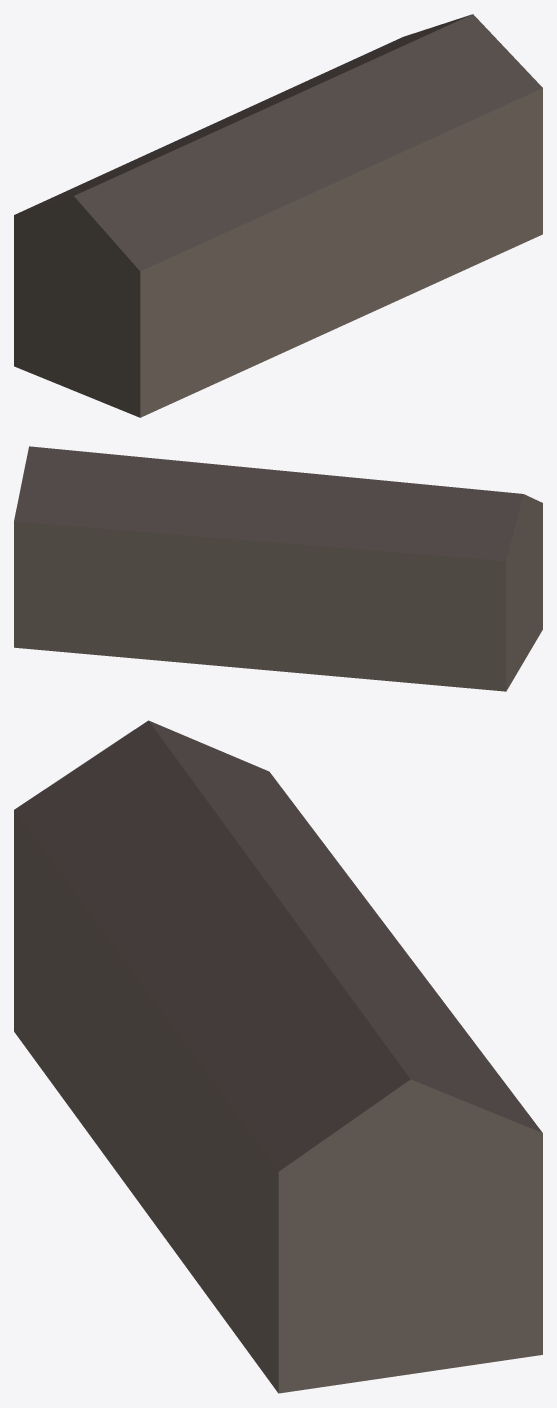
The picture shows the model from 3 angles, top to bottom: view 1: azimuth 30°, elevation 25°; view 2: azimuth 150°, elevation 25°; view 3: azimuth 270°, elevation 25°; orthographic projection. The views are drawn at different scales.
Visible parts, largest first — view 1: HP-w505649217; view 2: HP-w505649217; view 3: HP-w505649217.
Part boxes in pixels (<box>): HP-w505649217: <box>14,14,542,417</box>; HP-w505649217: <box>14,446,542,691</box>; HP-w505649217: <box>14,720,542,1393</box>.
Bounding box in the file's own units: 34.23 × 11.97 × 19.47.
